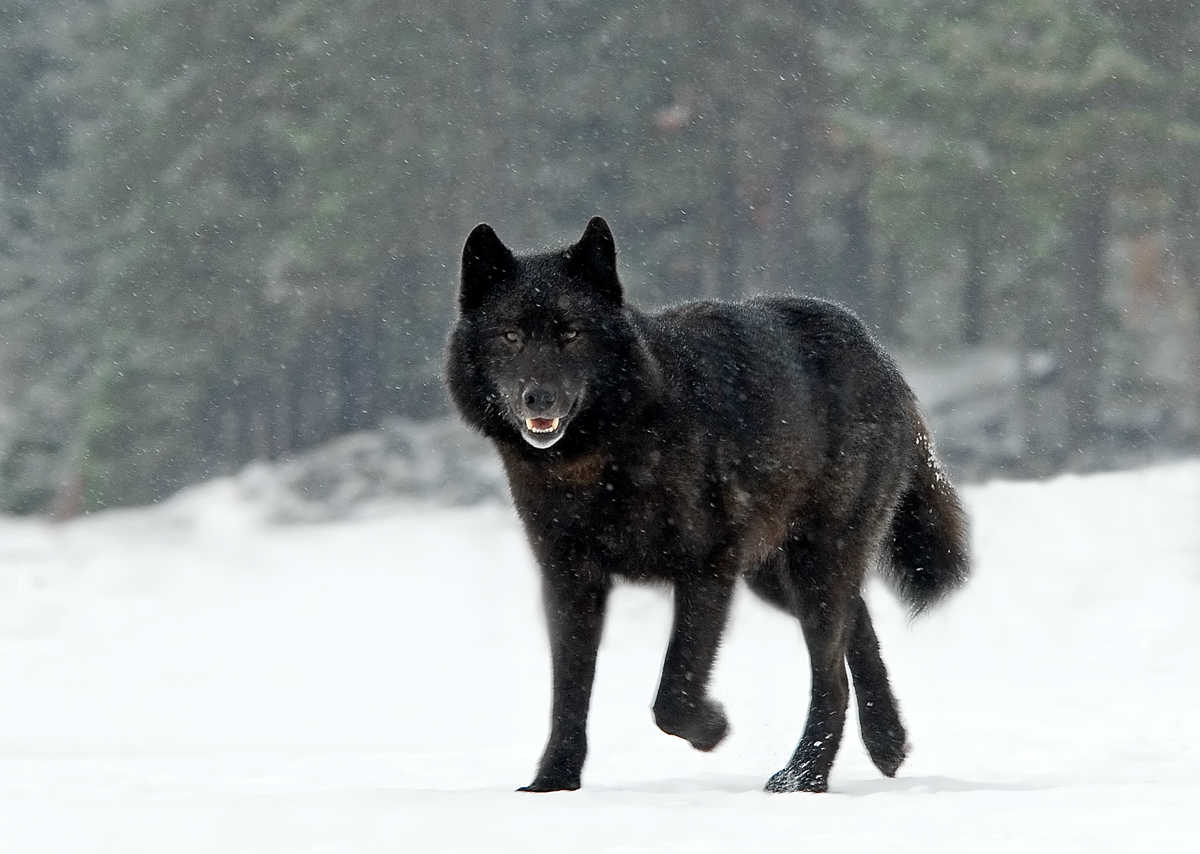Lobo: (424, 189, 1054, 811)
